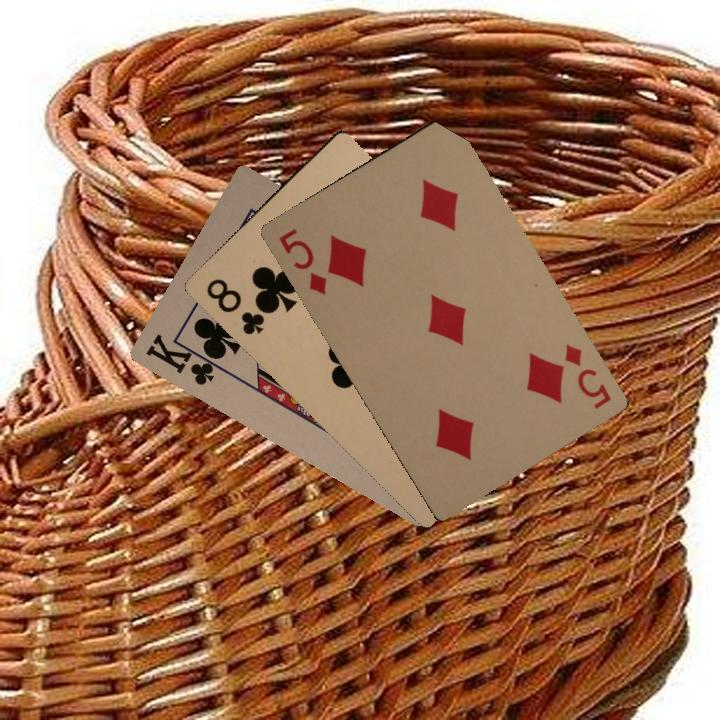5d: (274, 224, 330, 298), (560, 340, 614, 412)
8c: (202, 274, 267, 338)
Kc: (141, 329, 227, 389)
